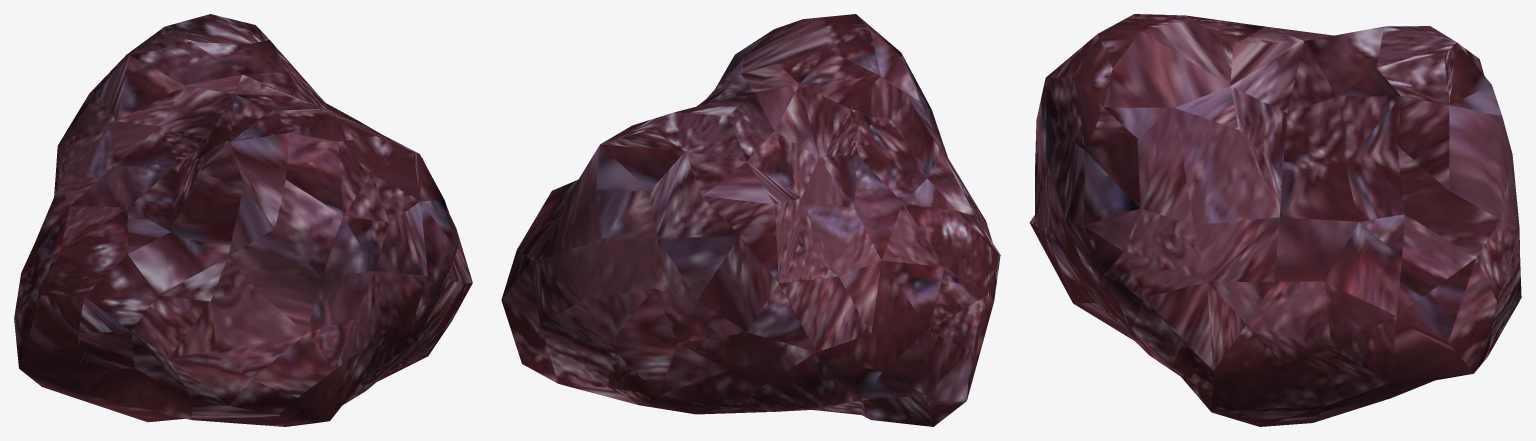
File: AuthenticMeatChunk04.fbx
3 views of the same model, side by side, from view 1: azimuth 30°, elevation 25°; view 2: azimuth 150°, elevation 25°; view 3: azimuth 270°, elevation 25° (orthographic). The views are drawn at different scales.
Visible parts, largest first — view 1: rock; view 2: rock; view 3: rock.
Part boxes in pixels (x1=…): rock: x1=14, y1=14, x2=472, y2=426; rock: x1=501, y1=14, x2=1000, y2=426; rock: x1=1029, y1=14, x2=1521, y2=426.
Size of the model in its own units: 0.0795 by 0.0611 by 0.0785.
